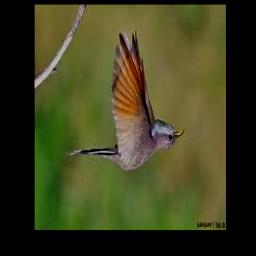Cuckoo: (66, 29, 185, 171)
